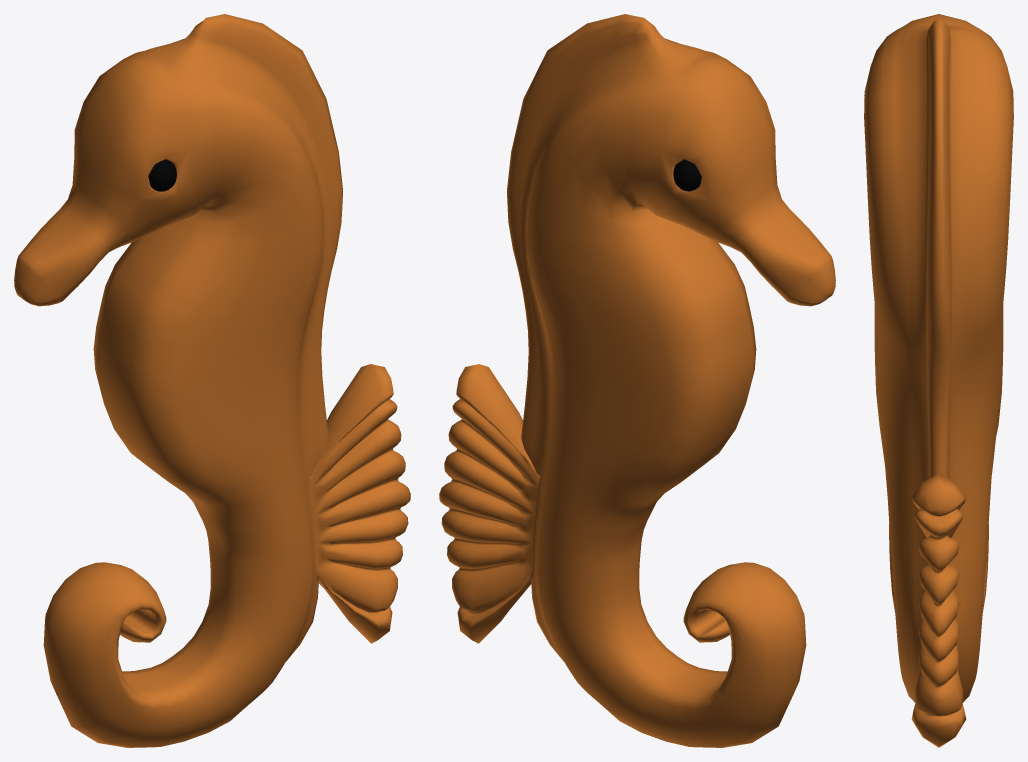
The model's file is seahorse-final.fbx.
3 views of the same model, side by side, from view 1: azimuth 30°, elevation 25°; view 2: azimuth 150°, elevation 25°; view 3: azimuth 270°, elevation 25° (orthographic). The views are drawn at different scales.
Visible parts, largest first — view 1: seahorse_body; view 2: seahorse_body; view 3: seahorse_body.
Part boxes in pixels (x1,y1,x2,y2): seahorse_body: (14,14,410,747); seahorse_body: (439,14,835,747); seahorse_body: (864,14,1013,747).
Size of the model in its own units: 6.21 by 10.81 by 2.1.
